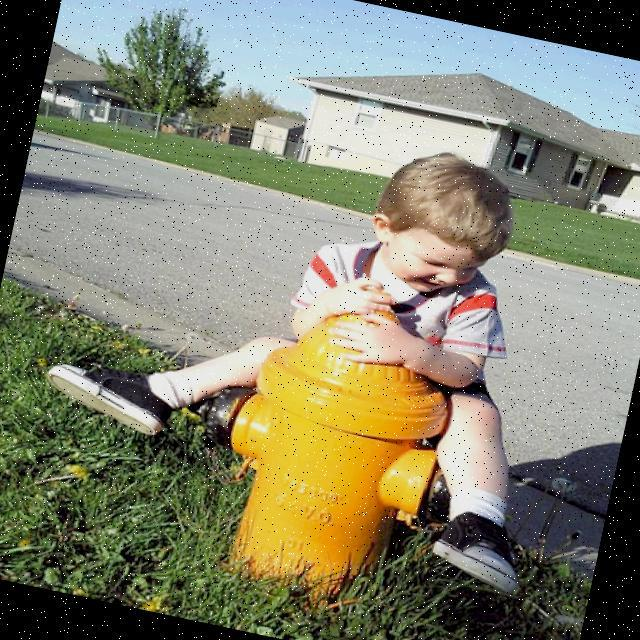fire_hydrant: (156, 252, 487, 608)
